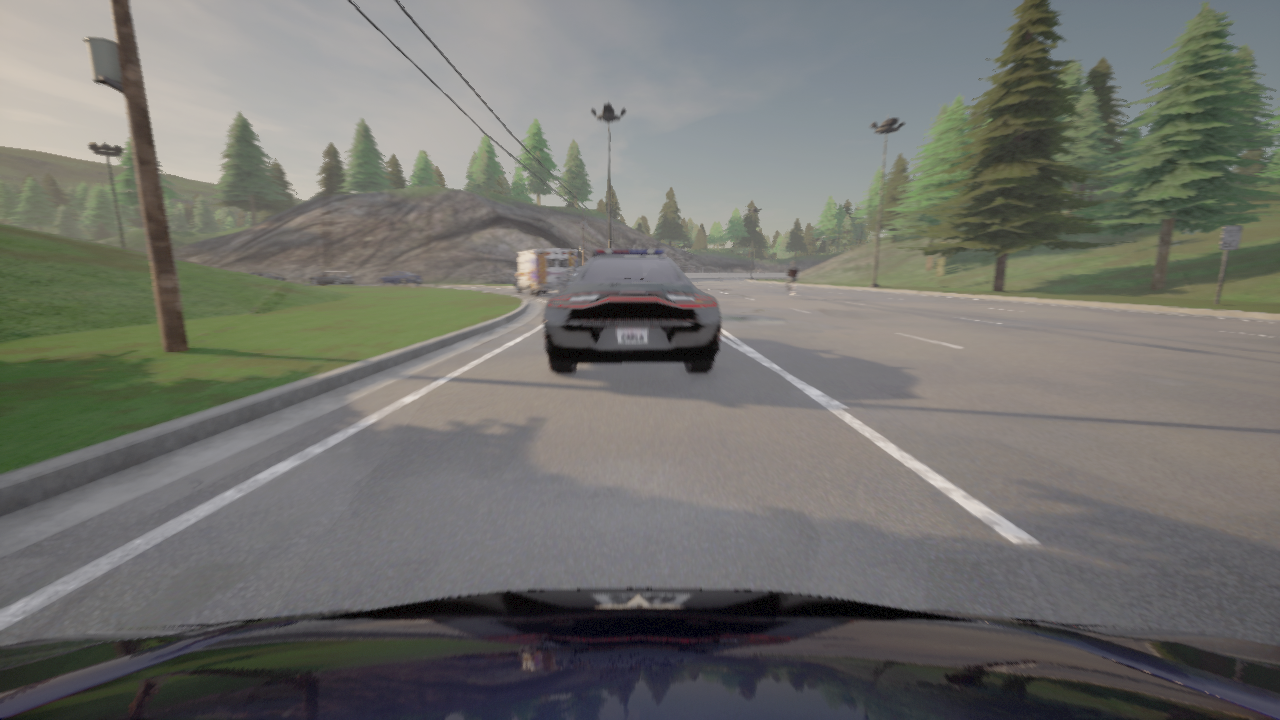cyclist: (0, 588, 1279, 719), (543, 249, 721, 373), (512, 249, 577, 295), (555, 266, 582, 293), (377, 271, 423, 285), (310, 271, 355, 284), (250, 271, 286, 280), (787, 284, 797, 299), (591, 249, 598, 257)
